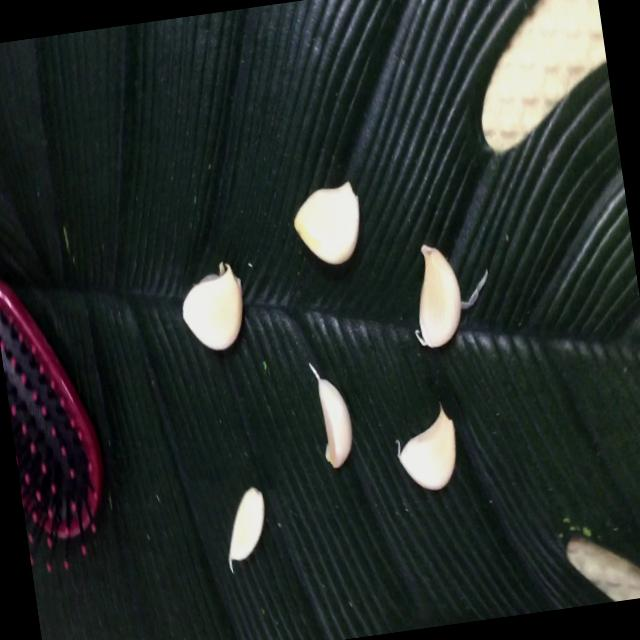bawang: (172, 260, 254, 356), (288, 182, 371, 276), (405, 239, 469, 357), (305, 356, 363, 477), (392, 400, 466, 494), (214, 483, 276, 568)
